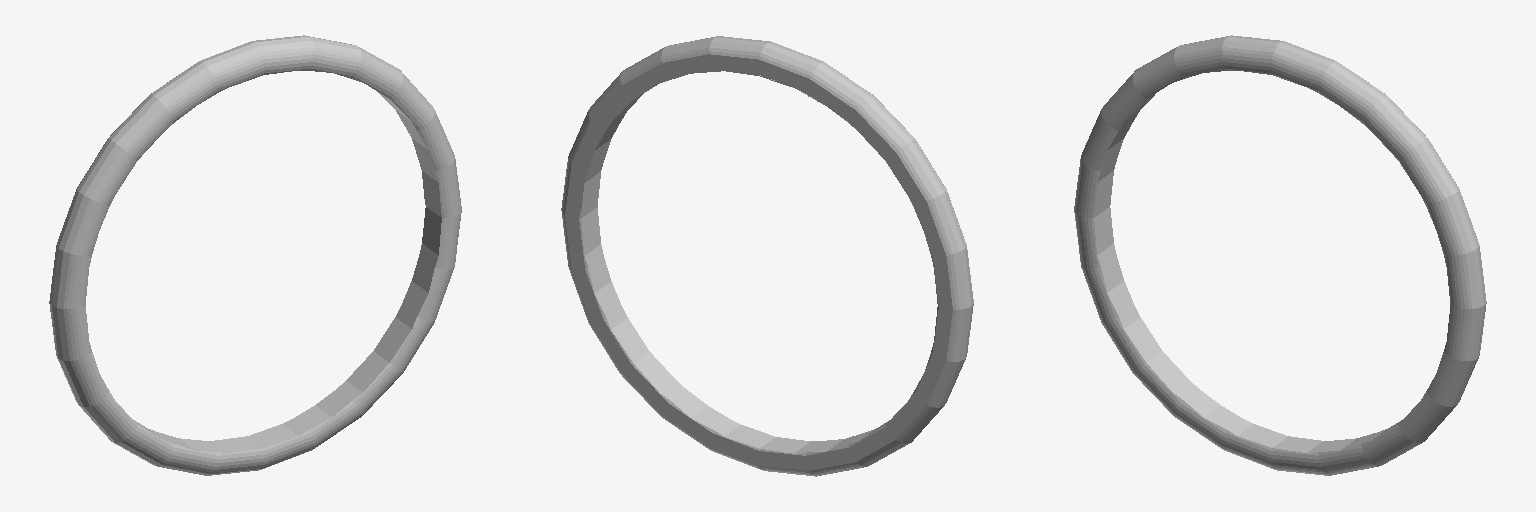
The model's file is bangl.obj.
The picture shows the model from 3 angles: view 1: azimuth 30°, elevation 25°; view 2: azimuth 150°, elevation 25°; view 3: azimuth 330°, elevation 25°; orthographic projection.
Bounding box in the file's own units: 79 × 79 × 6.12.